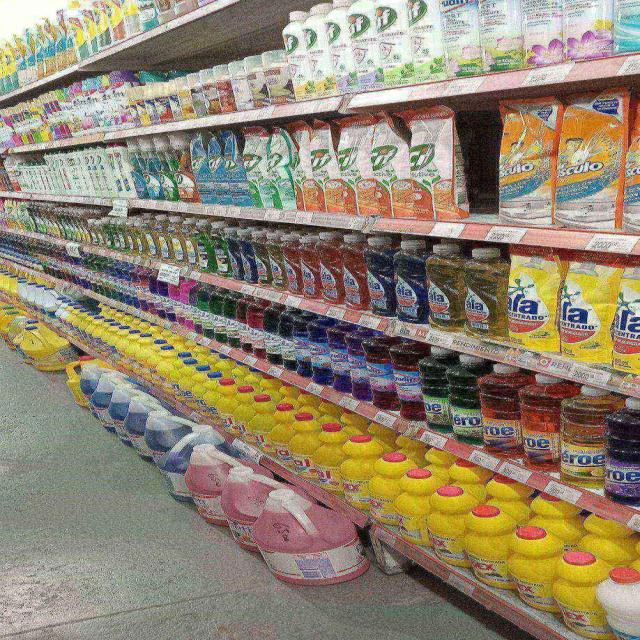ala_sachet_amarillo: (560, 257, 610, 363), (507, 250, 557, 353), (613, 261, 640, 379)
